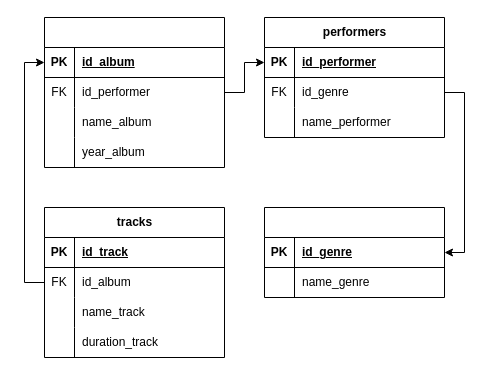
Some shapes in this 490 by 375 pixel diagram are drawn without their labels. The shapes that lost their labels are listed below. From the top down, each one's box as (x1, y1, x2, y2) in pixels, then its label:
(44, 16, 224, 168): albums
(264, 206, 444, 298): genres
